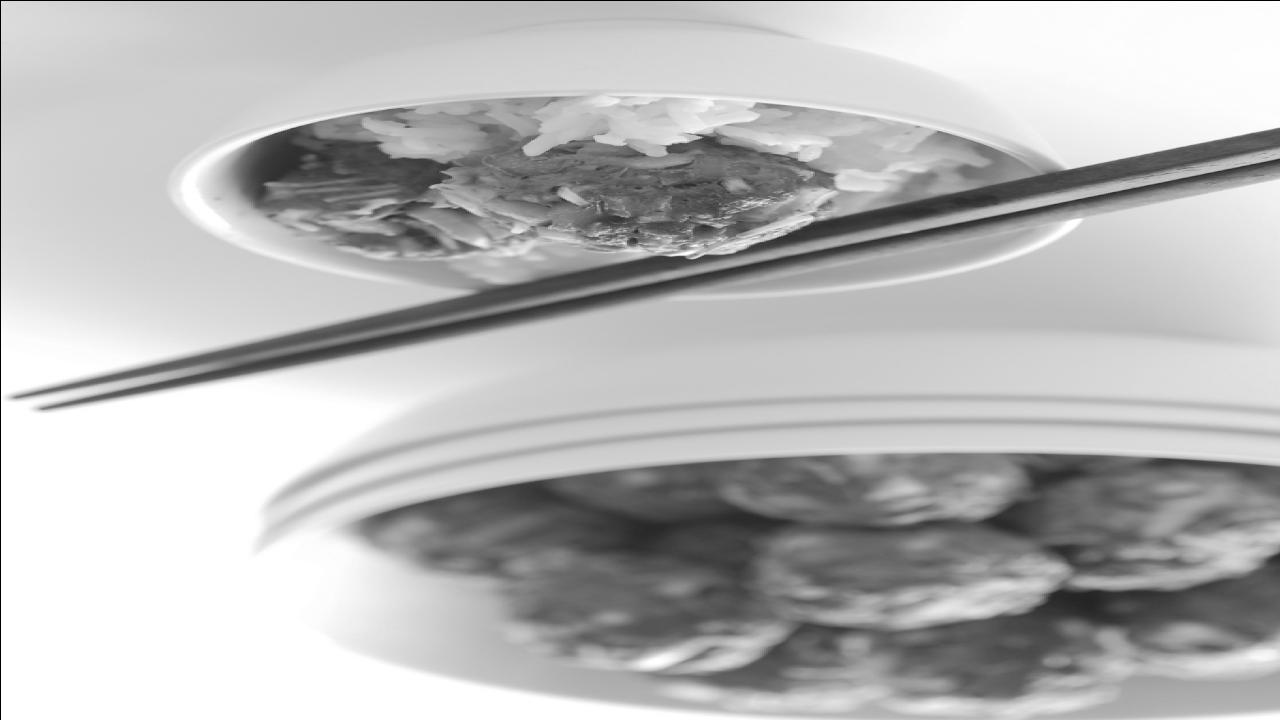chopstick: (5, 120, 1277, 414)
